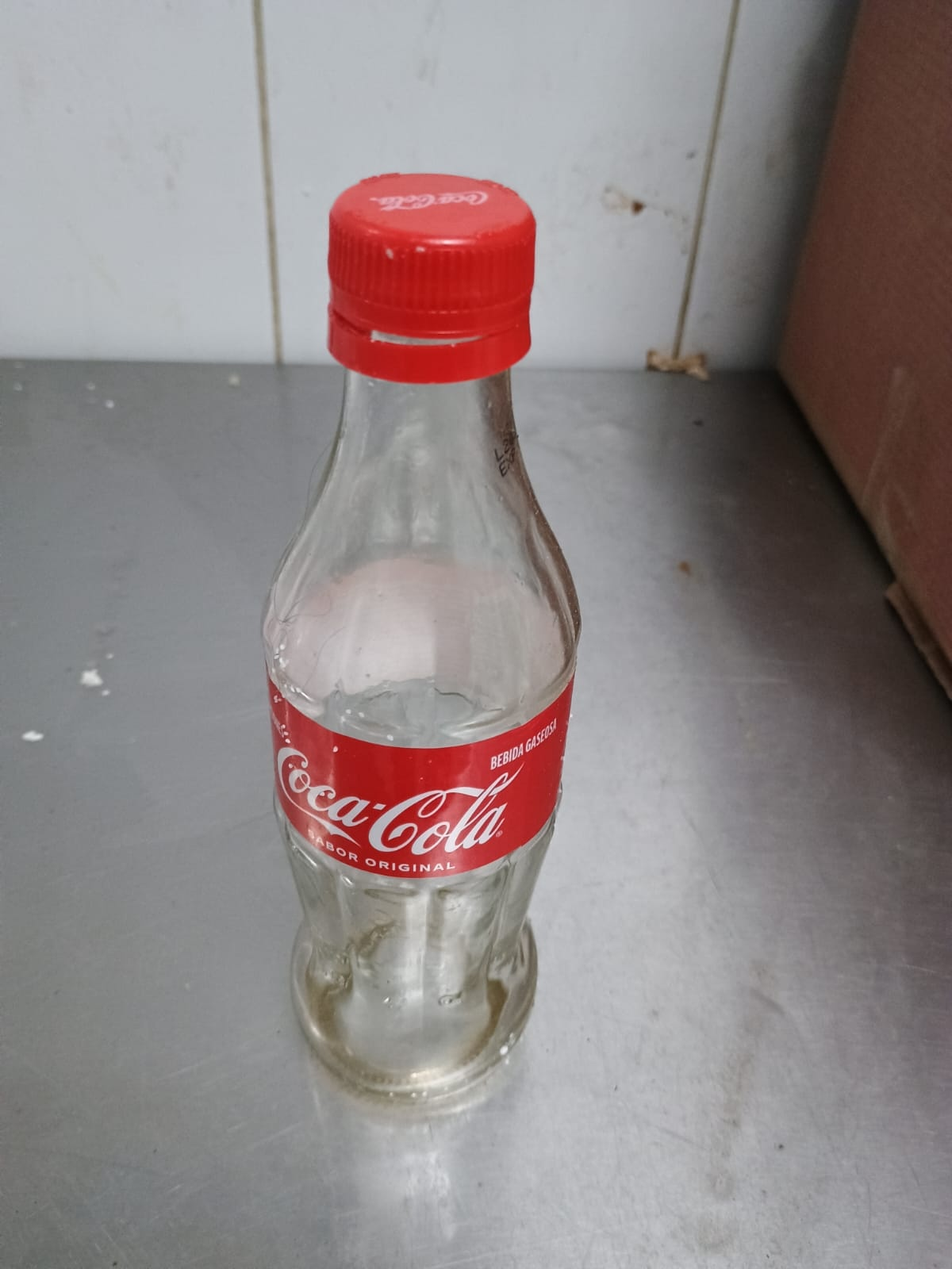Plastico: (326, 173, 540, 326)
Vidrio: (264, 324, 579, 1110)
